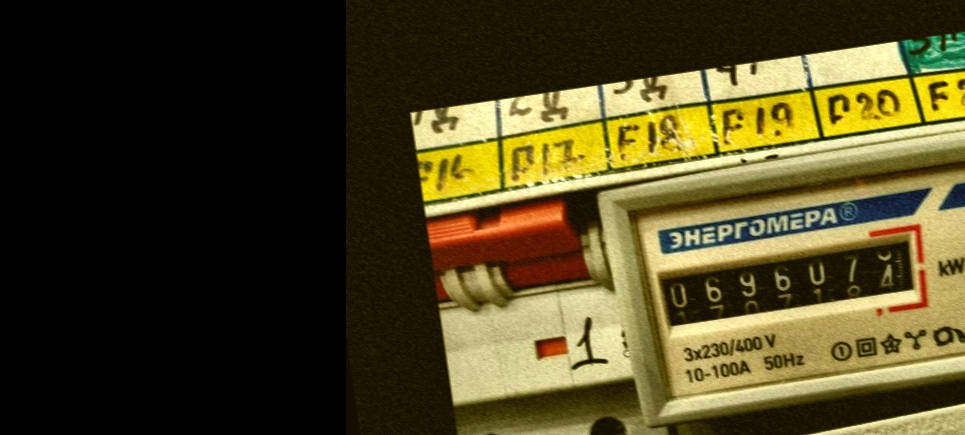0: (667, 278, 691, 310), (806, 255, 829, 287)
4: (875, 261, 898, 291)
6: (701, 272, 727, 304), (772, 262, 795, 292)
7: (841, 251, 862, 283)
9: (737, 268, 759, 299)
screen: (640, 216, 935, 347)
